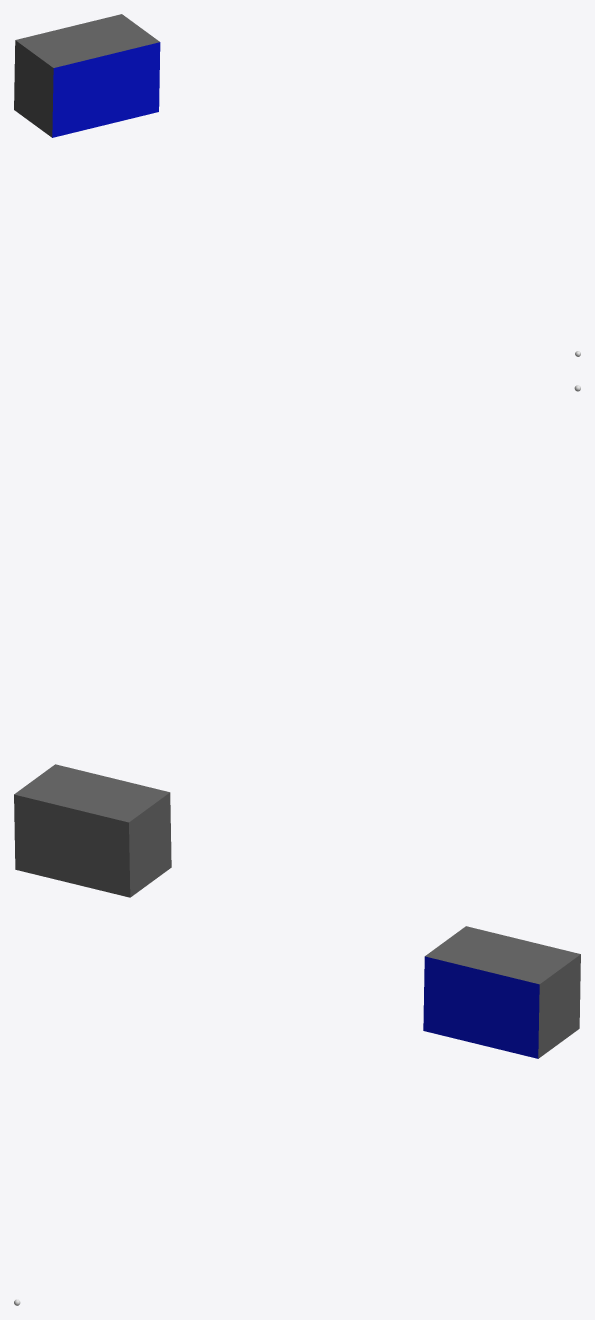
Rendered from ravine_BSP_010.fbx.
The picture shows the model from 3 angles, top to bottom: view 1: azimuth 30°, elevation 25°; view 2: azimuth 150°, elevation 25°; view 3: azimuth 330°, elevation 25°; orthographic projection. The views are drawn at different scales.
Visible parts, largest first — view 1: Chamber; view 2: Chamber; view 3: Chamber.
Boxes of the visible parts, <box> form: Chamber: <box>14,14,160,137</box>; Chamber: <box>14,764,171,897</box>; Chamber: <box>423,926,580,1058</box>.
Bounding box in the file's own units: 1268 × 1110 × 9990.
